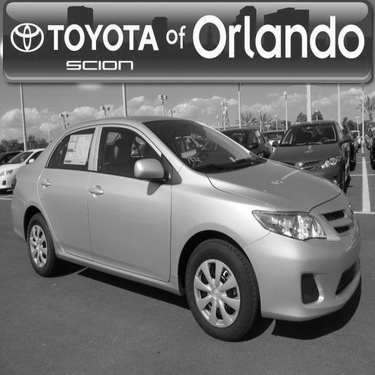car: (18, 108, 362, 333), (266, 115, 369, 199), (213, 115, 277, 156), (1, 147, 56, 190)
